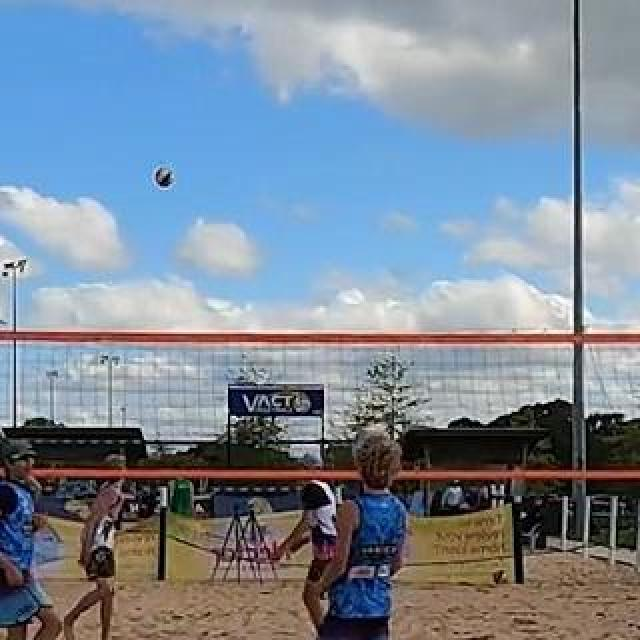volleyball: (155, 169, 173, 185), (494, 568, 510, 584)
